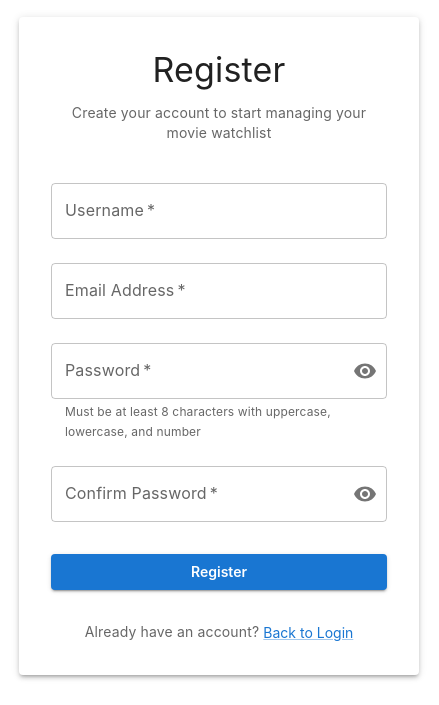
RegisterForm › should show validation error for invalid email
Type "newuser" into the field labelled "Username *".
click(219, 211); type("newuser")  # box [51, 183, 387, 239]
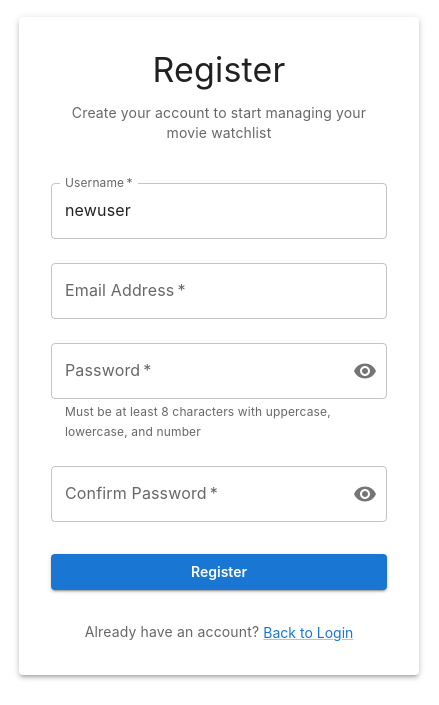
Type "invalid-email" into the field labelled "Email Address *".
click(219, 291); type("invalid-email")  # box [51, 263, 387, 319]
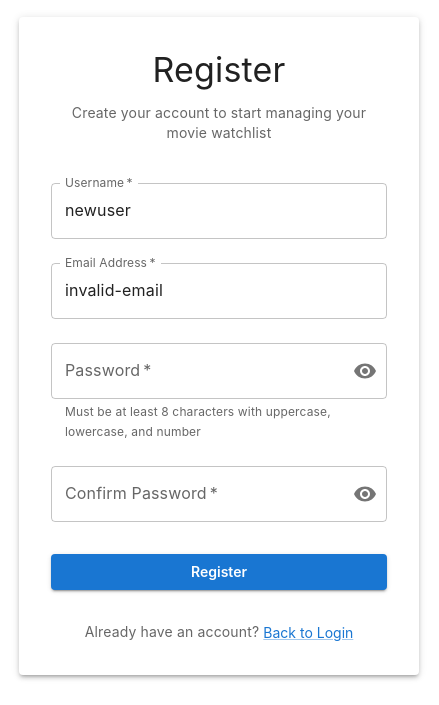
Type "Password123" into the password field labelled "Password *".
click(194, 371); type("Password123")  # box [51, 343, 337, 399]
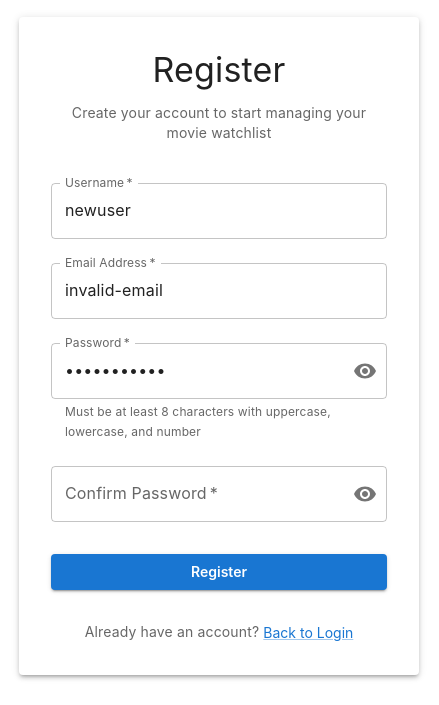
Type "Password123" into the password field labelled "Confirm Password *".
click(194, 494); type("Password123")  # box [51, 466, 337, 522]
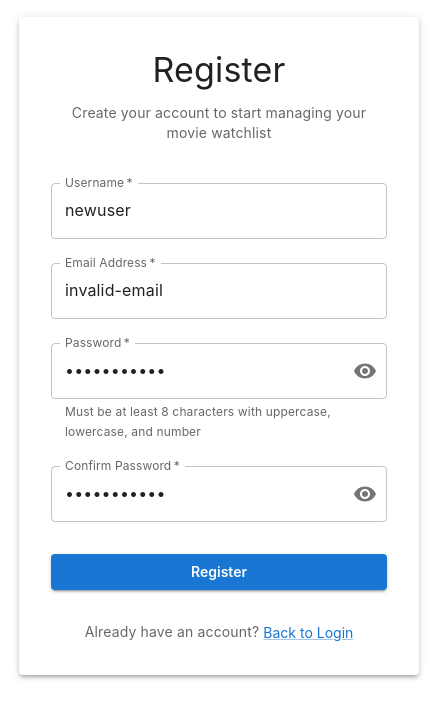
Click the button "Register".
click(219, 572)  # box [51, 554, 387, 590]
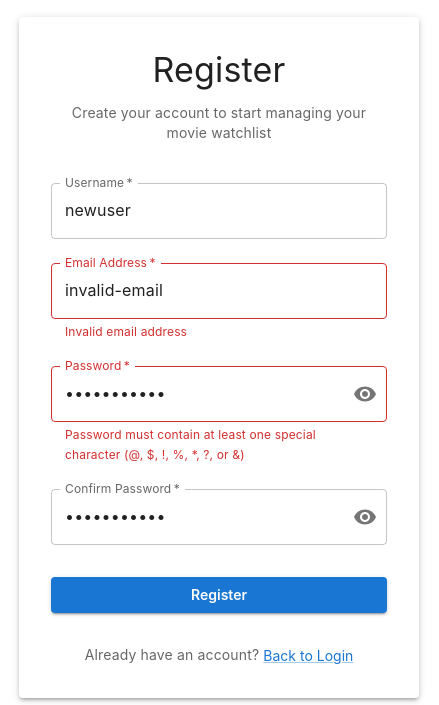
Now the text "Invalid email address" is shown, box [65, 324, 187, 339]
